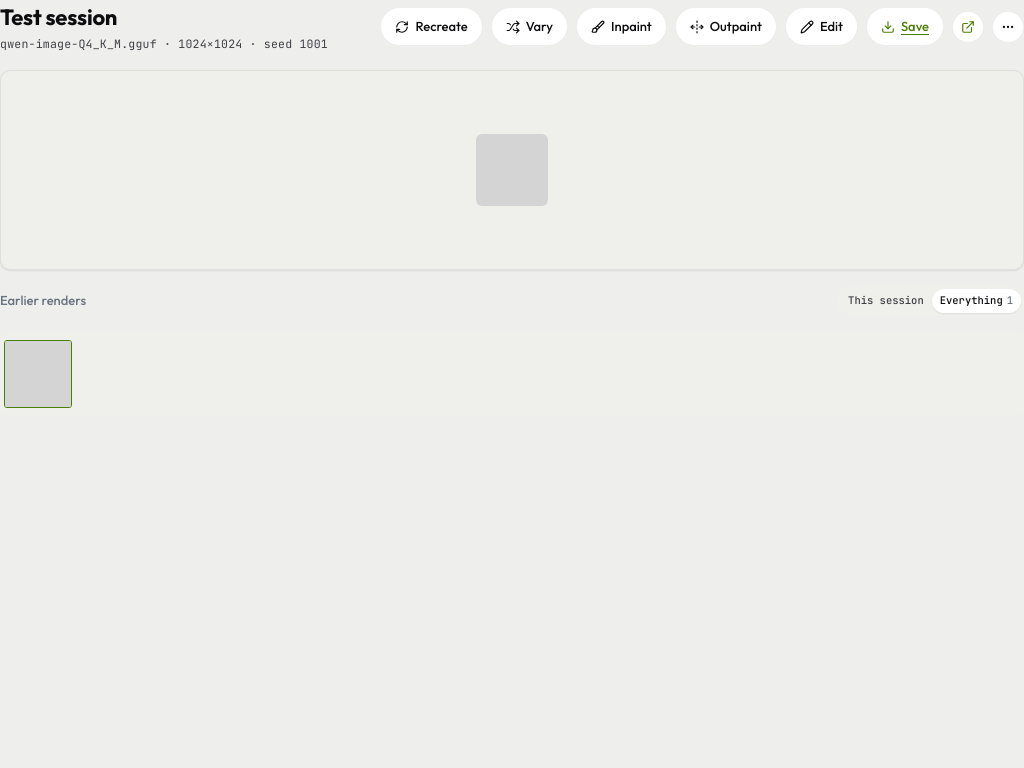
Test: Stage › clicking the image opens the full-size viewer and Escape closes it
Click the button named "Open full size" at x=512, y=170, box [1,122,1023,218]
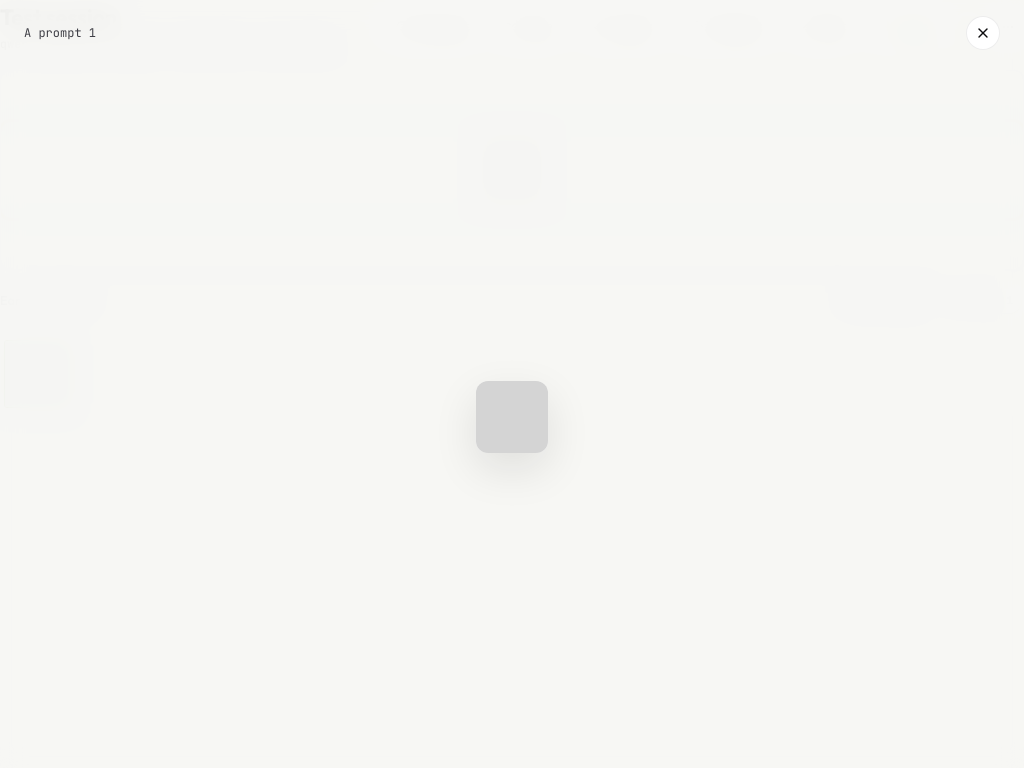
Expected: the dialog is shown
Press Escape
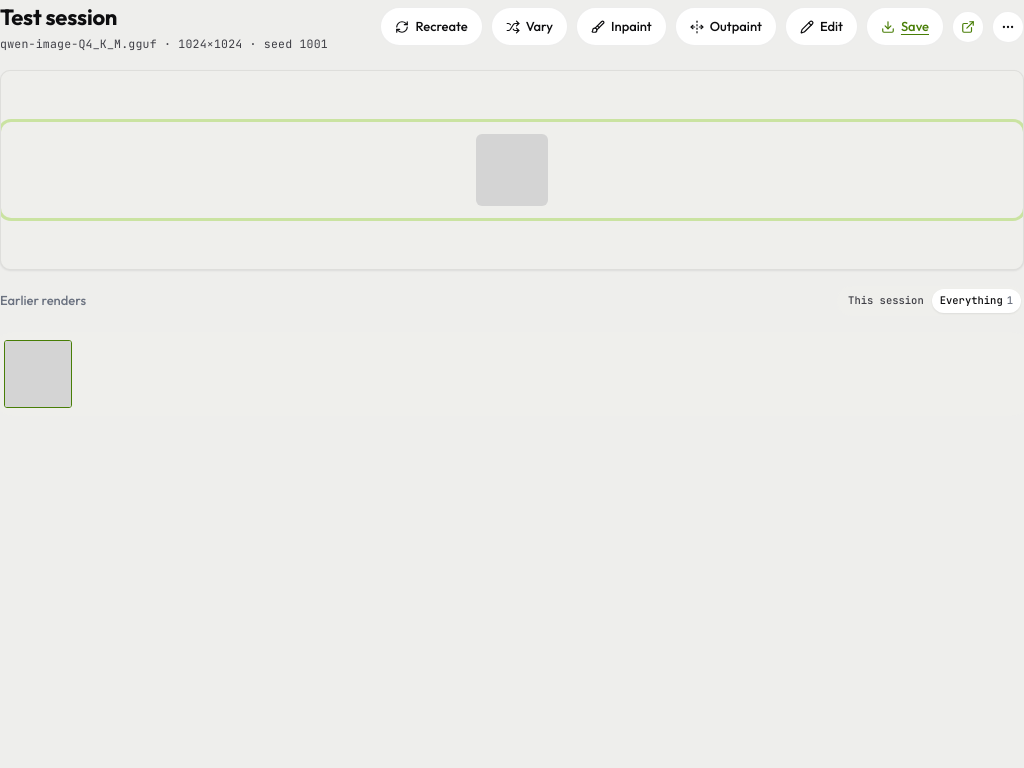
Expected: the dialog is gone
